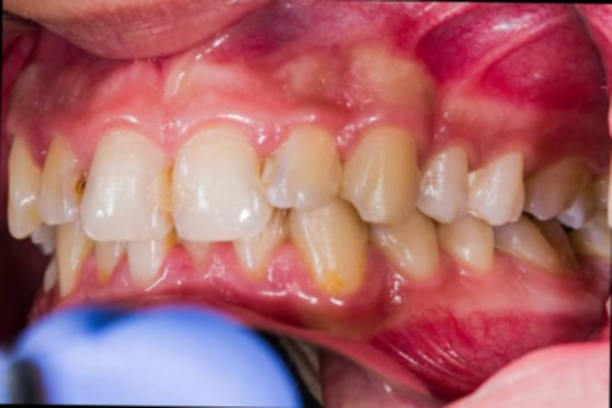Gingivitis: (388, 297, 510, 373), (21, 47, 114, 120), (216, 8, 310, 65)
